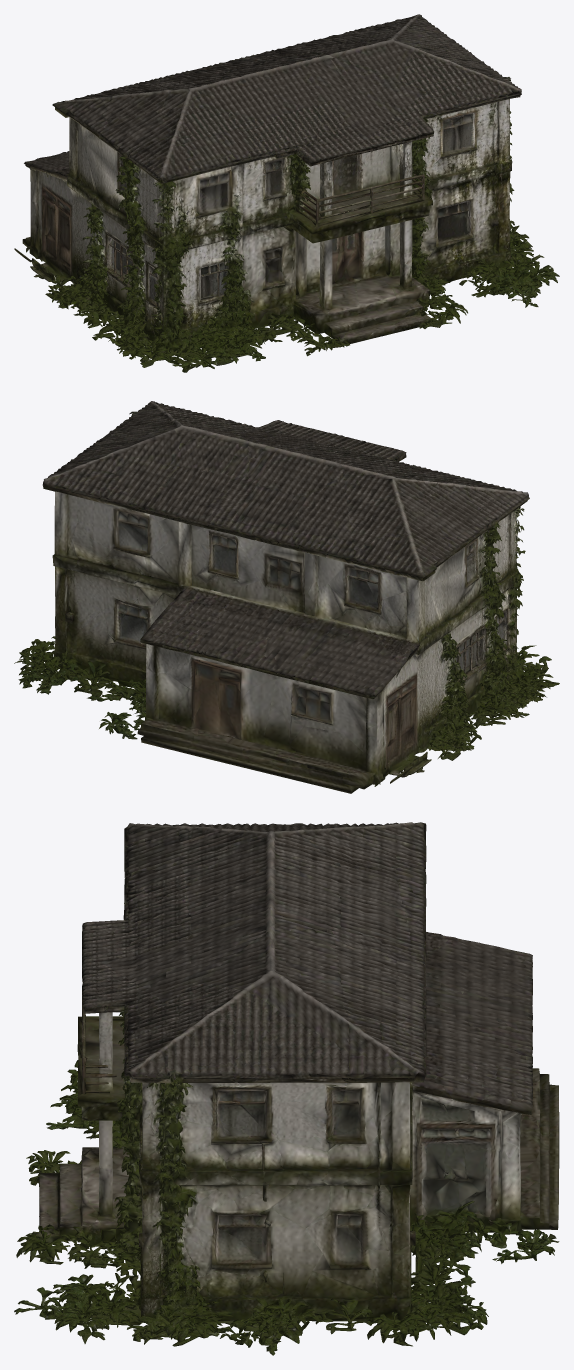
File: village_hq.glb
3 renders of one model, top to bottom at view 1: azimuth 30°, elevation 25°; view 2: azimuth 150°, elevation 25°; view 3: azimuth 270°, elevation 25°, orthographic. The views are drawn at different scales.
Size of the model in its own units: 16 by 7.64 by 12.28.
1 material, 1 textured.
